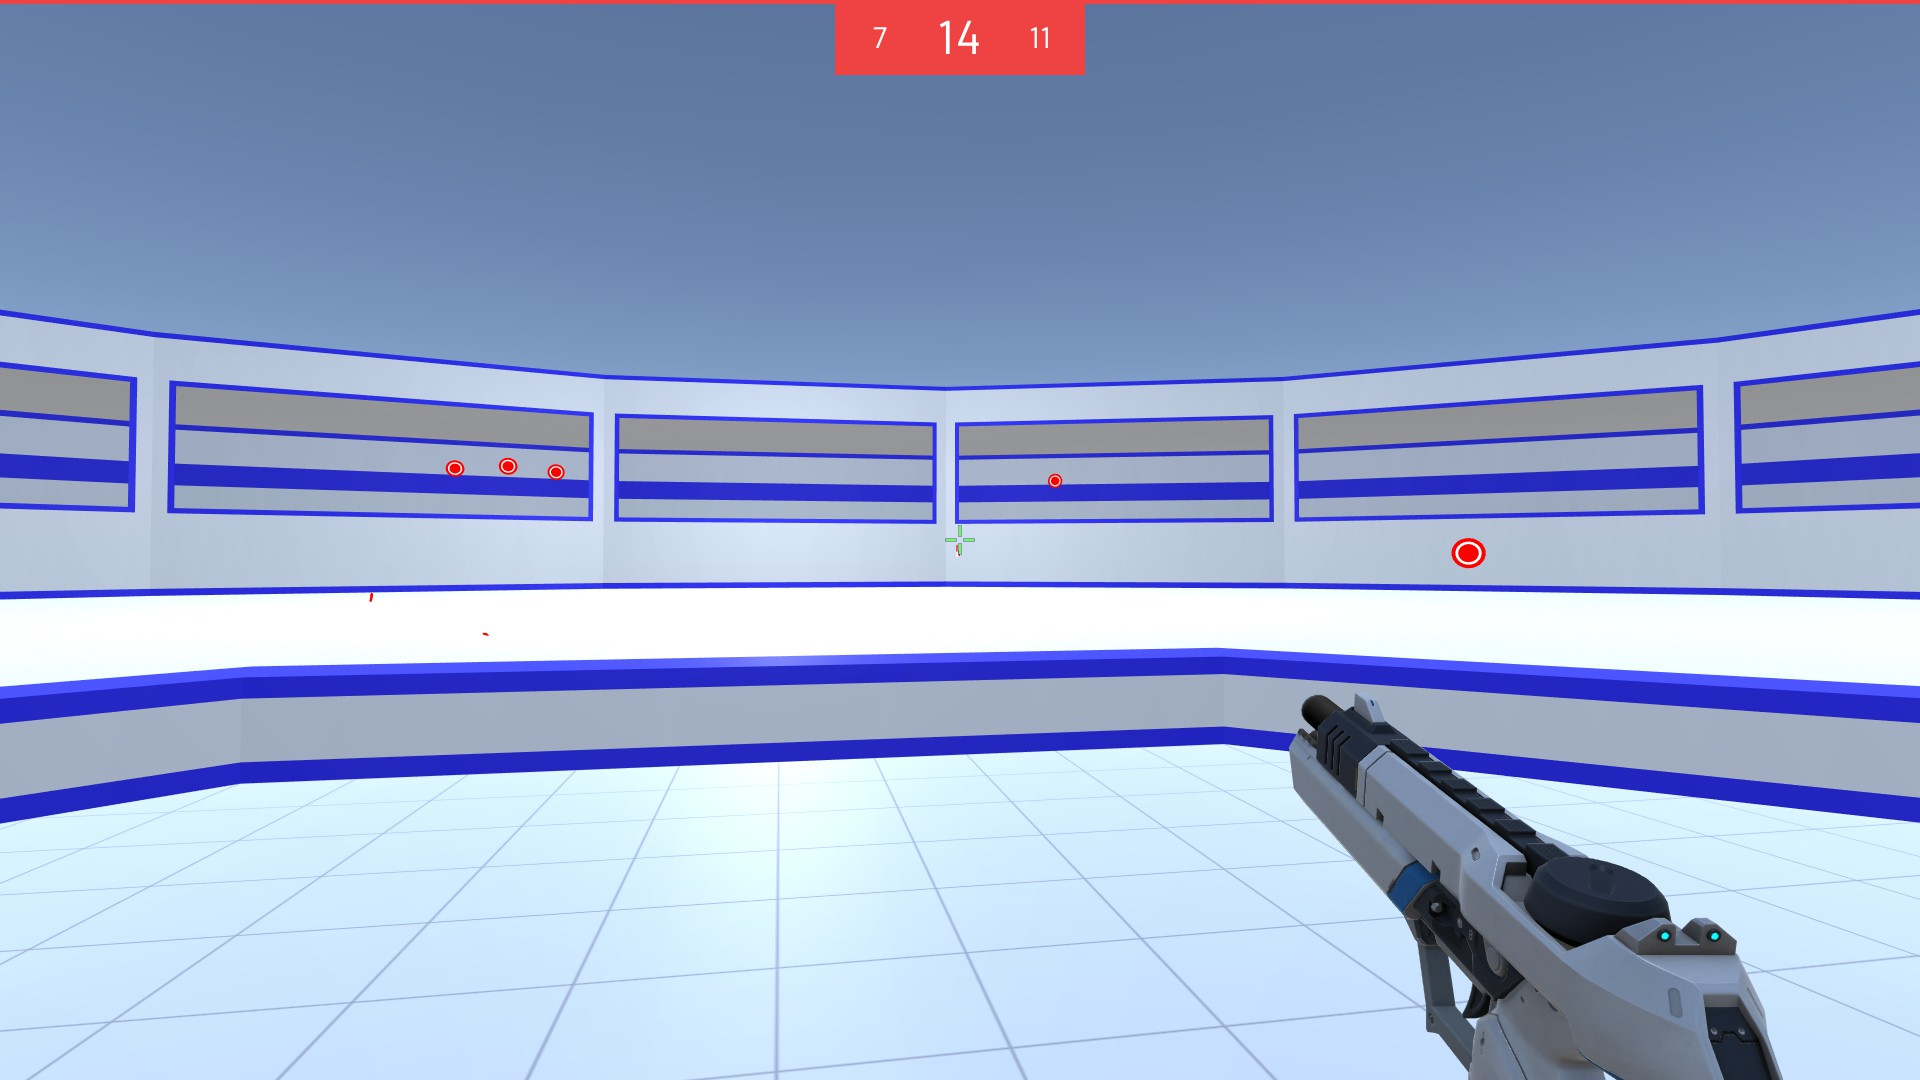target: (1448, 537, 1487, 571), (444, 458, 465, 477), (498, 458, 520, 477), (547, 464, 568, 481), (1047, 473, 1064, 491)
